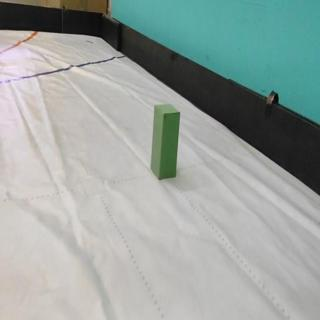greenbox: (151, 101, 181, 181)
